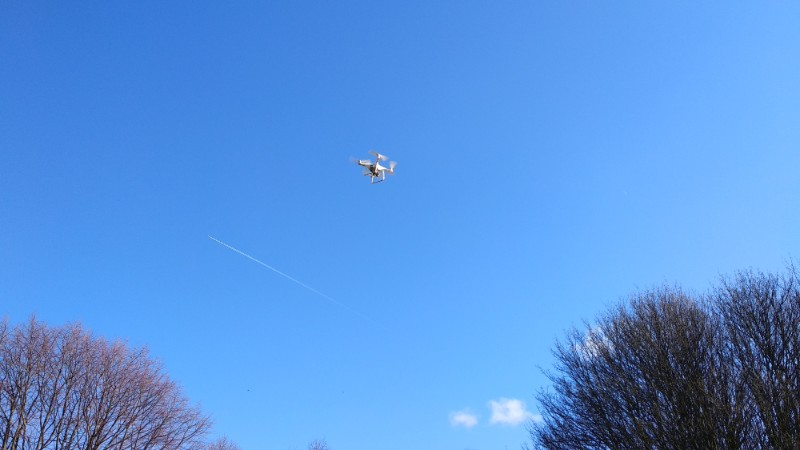drone: (348, 149, 399, 186)
